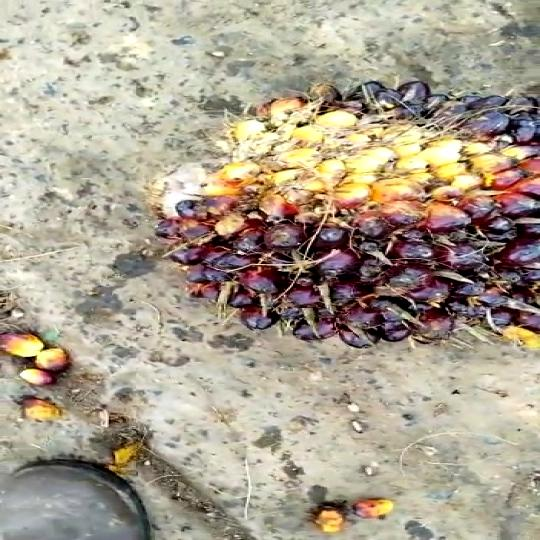mentah: (157, 66, 540, 360)
